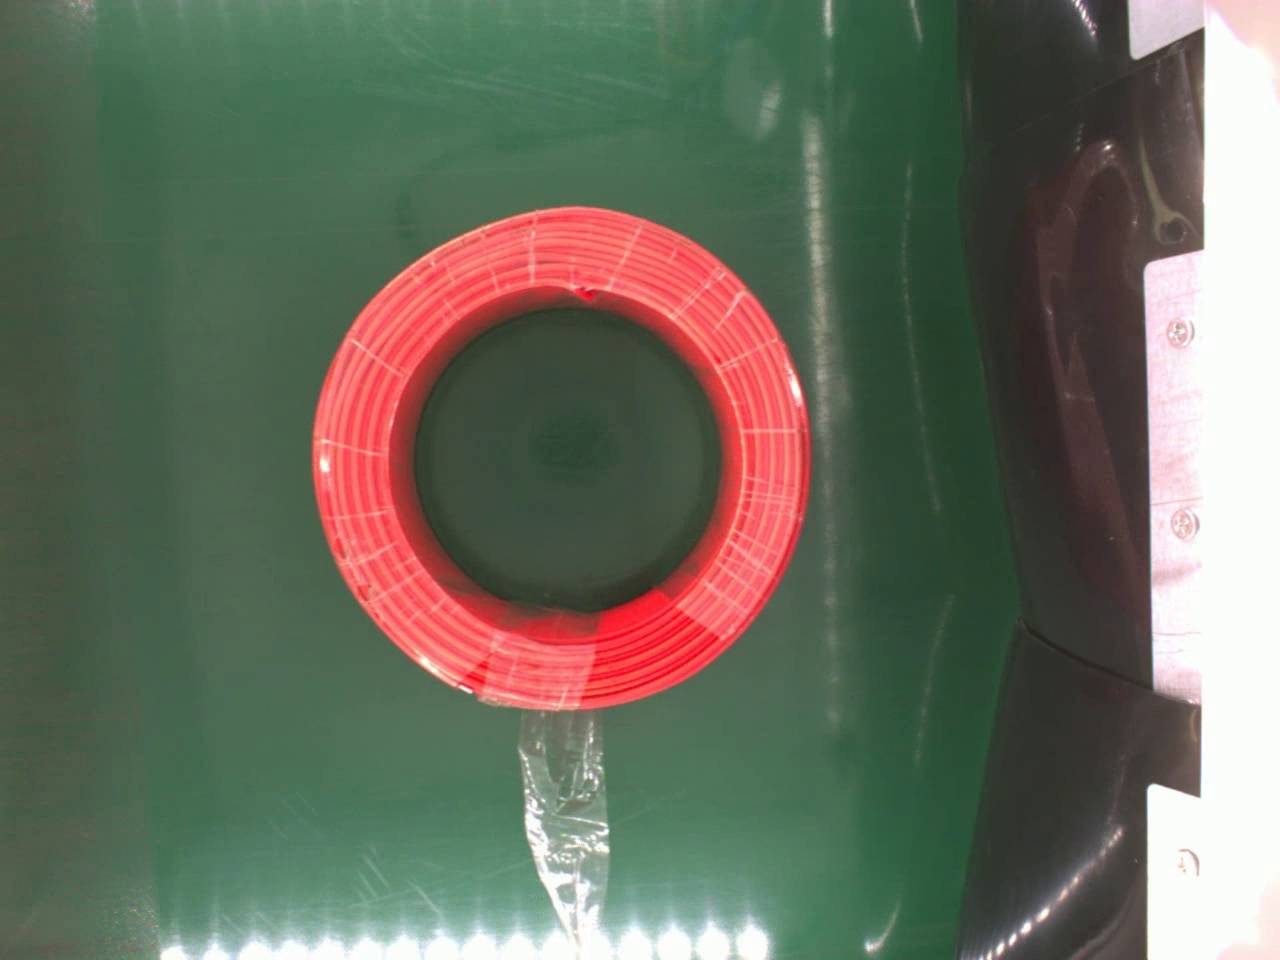red: (308, 199, 810, 715)
